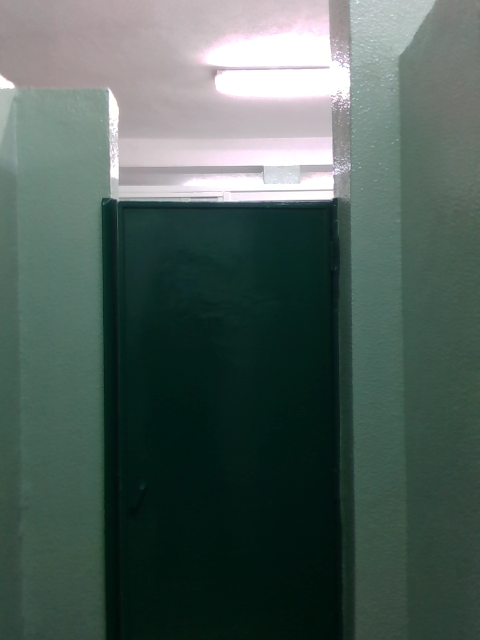closed: (107, 202, 347, 627)
